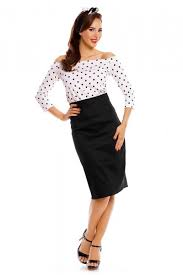F_tailored skirt: (66, 89, 130, 200)
